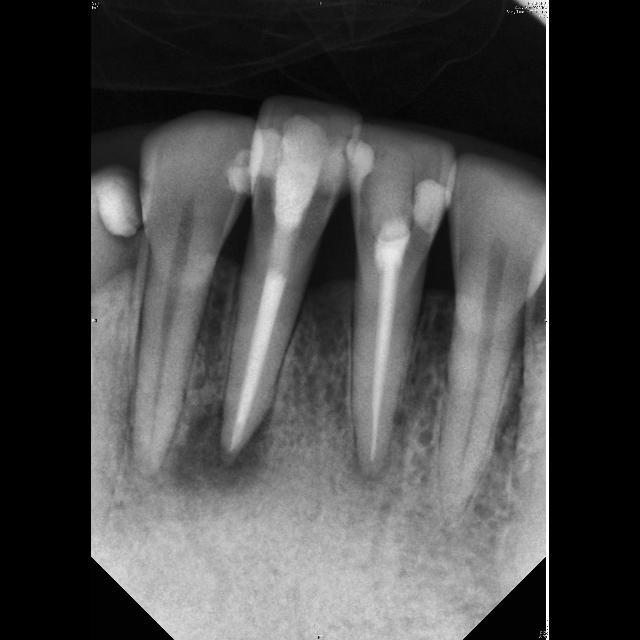teeth: (133, 114, 254, 472), (439, 154, 546, 508)
